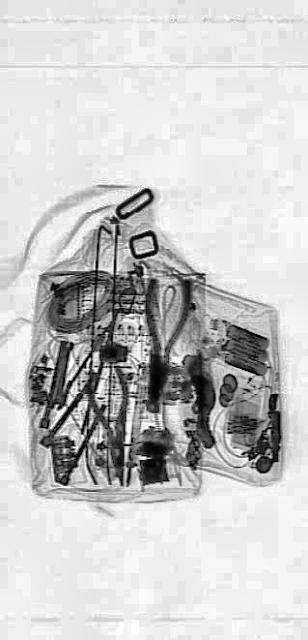Pliers: (131, 261, 191, 421), (83, 353, 141, 497)
